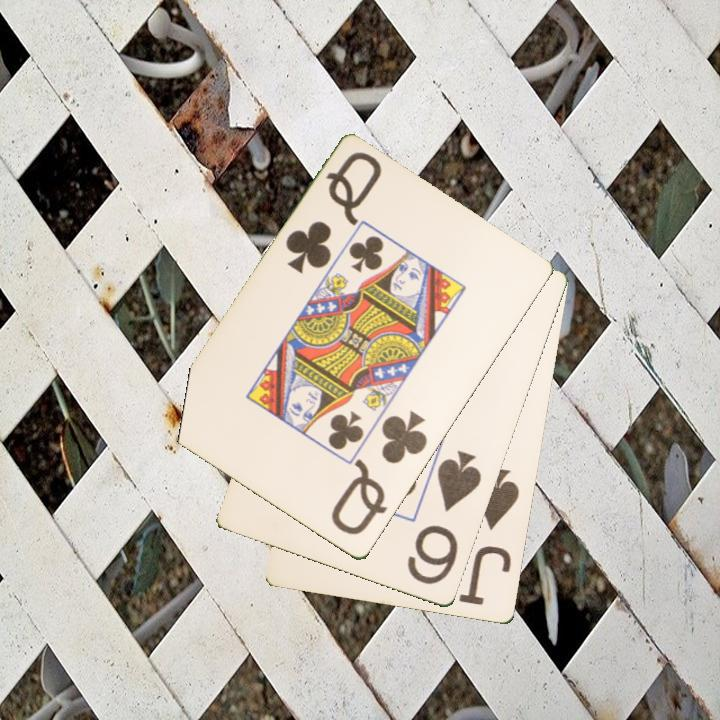6s: (404, 447, 485, 588)
Js: (456, 464, 523, 609)
Qc: (327, 407, 431, 539), (281, 148, 385, 277)
